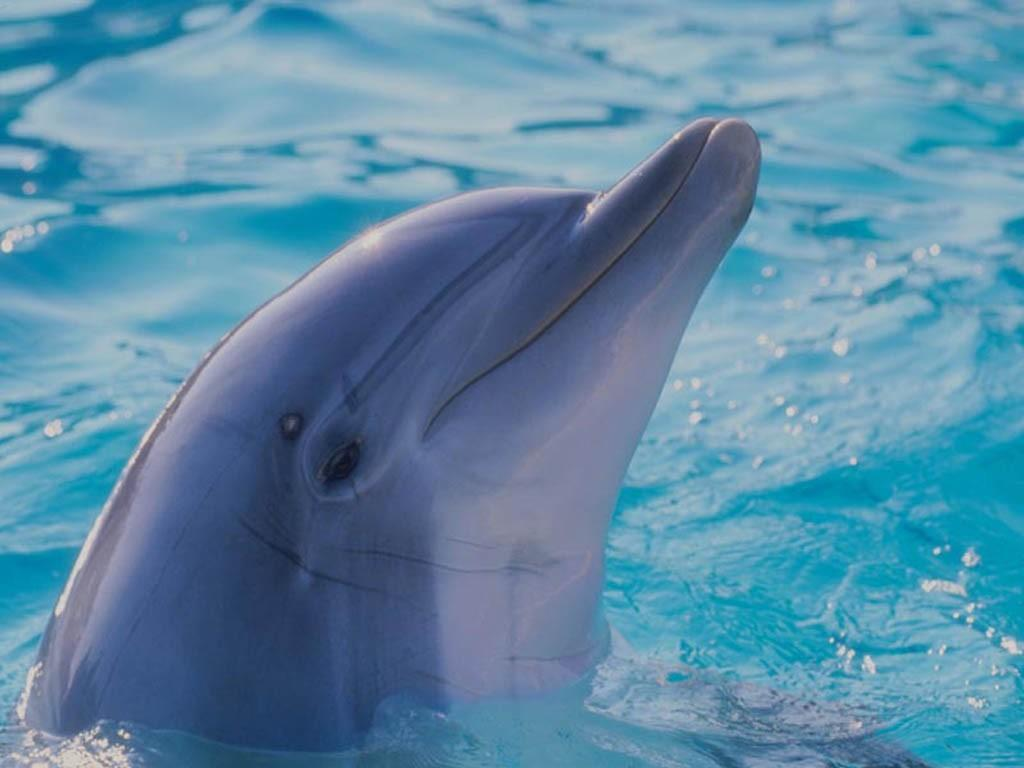fish: (7, 111, 767, 732)
